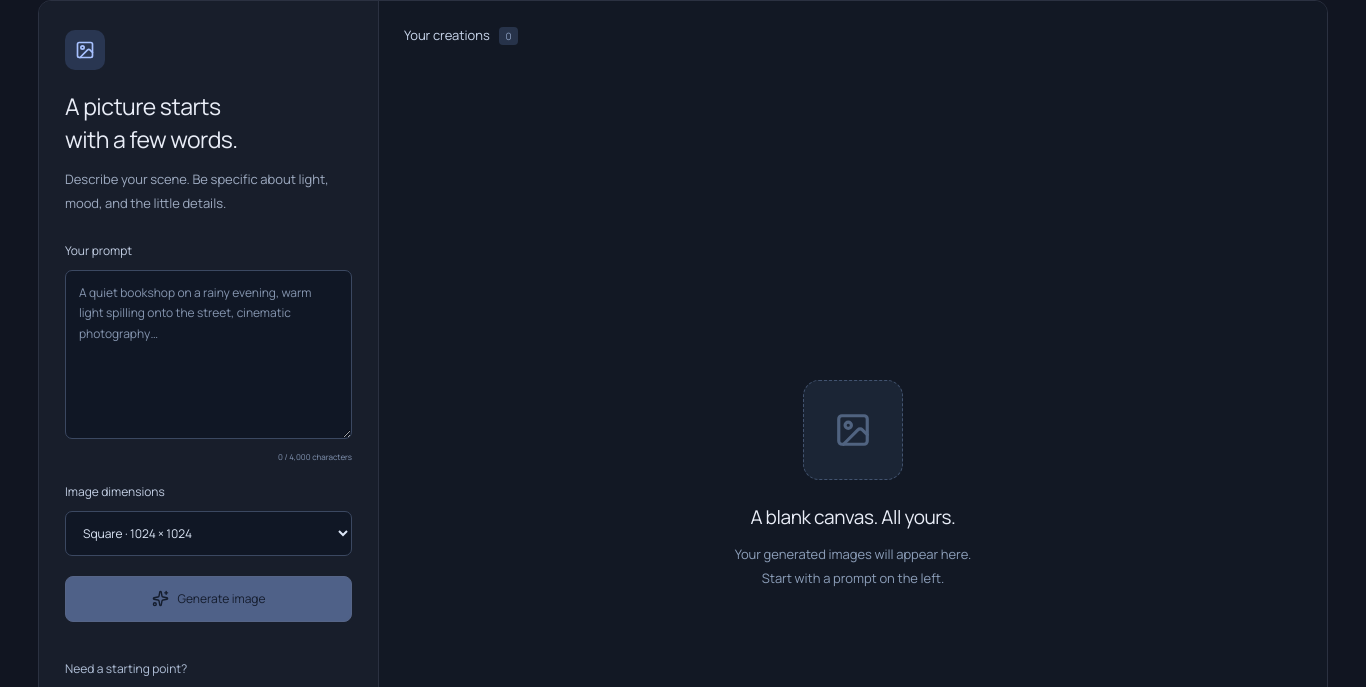
Test case: shows image API failure without adding a successful image
The width and height of the screenshot is (1366, 687).
Replace the text in the text box labelled "Your prompt" with "A scene" at (208, 354), box [65,270,352,439]
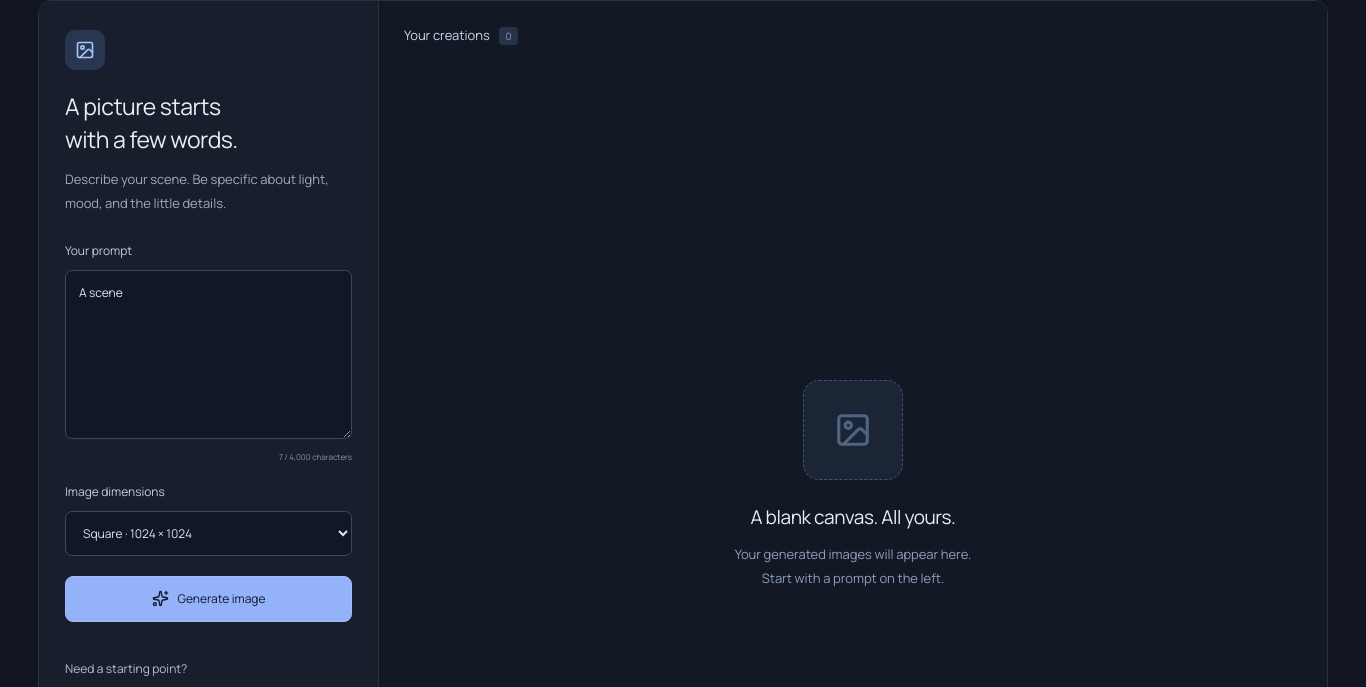
Click the button "Generate image" at (208, 599), box [65,576,352,622]
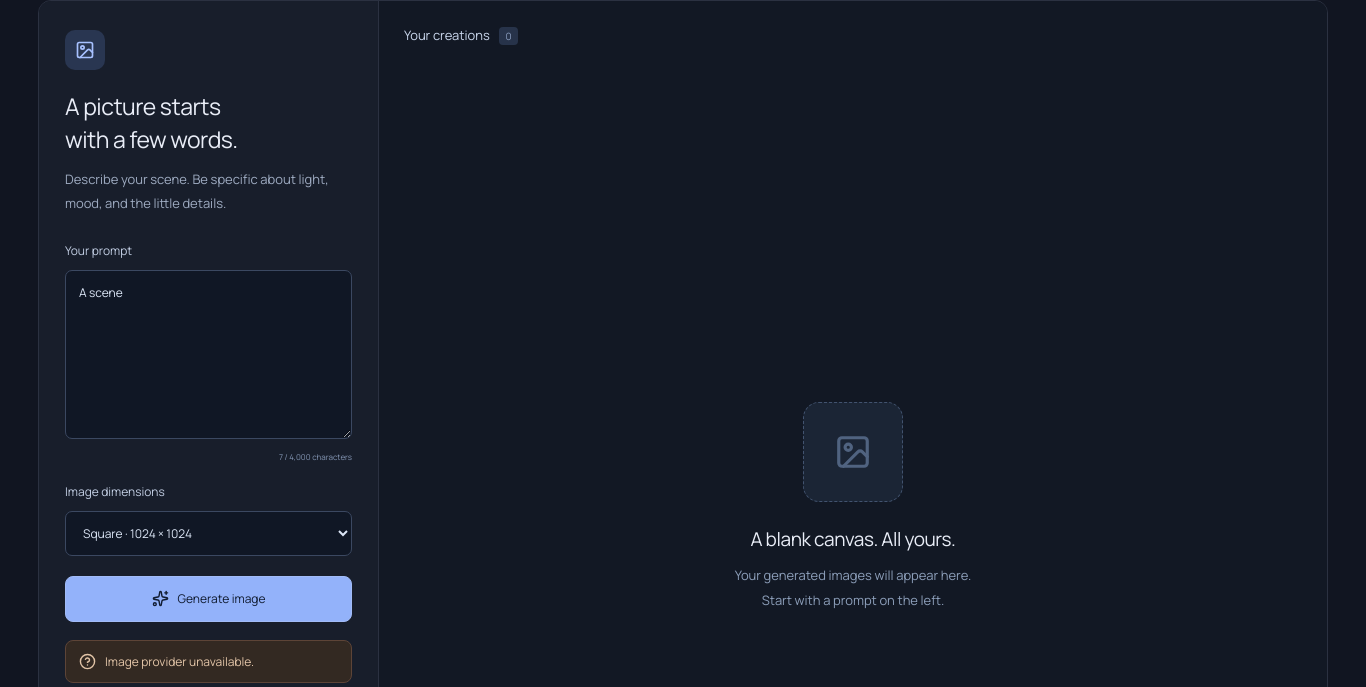
Expected: the text "Image provider unavailable." is shown, [105,652,254,671]
